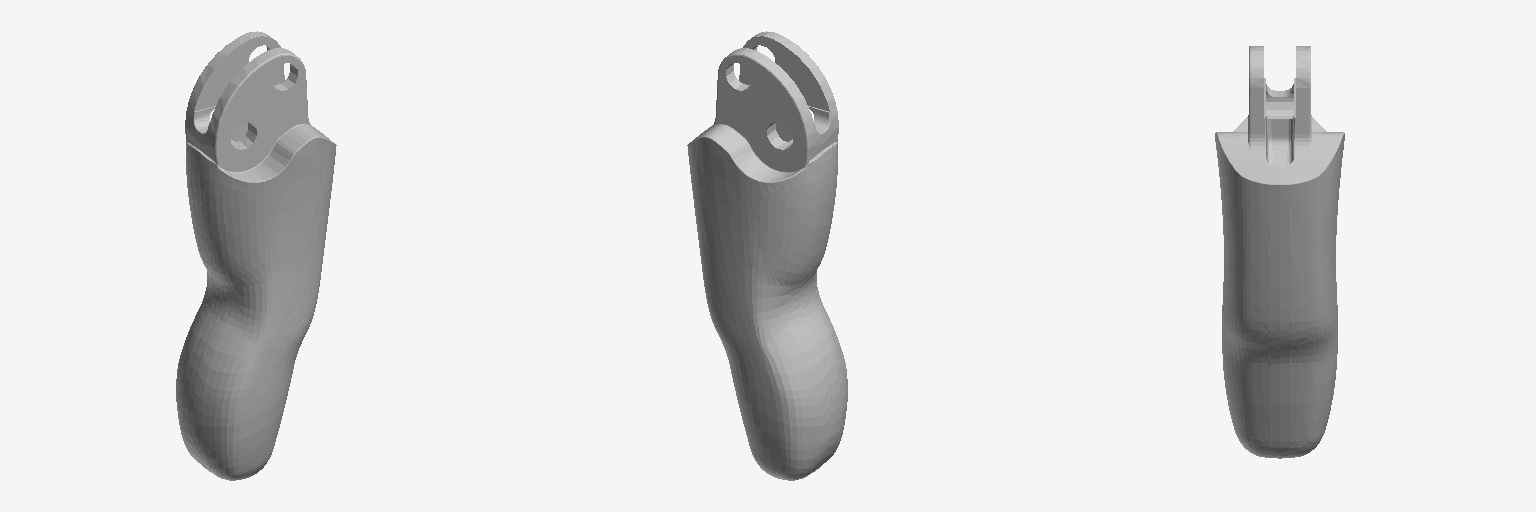
The picture shows the model from 3 angles: view 1: azimuth 30°, elevation 25°; view 2: azimuth 150°, elevation 25°; view 3: azimuth 270°, elevation 25°; orthographic projection.
Parts seen in each view (by area): view 1: Link22_L; view 2: Link22_L; view 3: Link22_L.
Boxes of the visible parts, box(x1,y1,x2,y2) form: Link22_L: box(176, 31, 336, 480); Link22_L: box(687, 31, 847, 480); Link22_L: box(1215, 46, 1344, 458).
Size of the model in its own units: 0.0153 by 0.0452 by 0.0127.